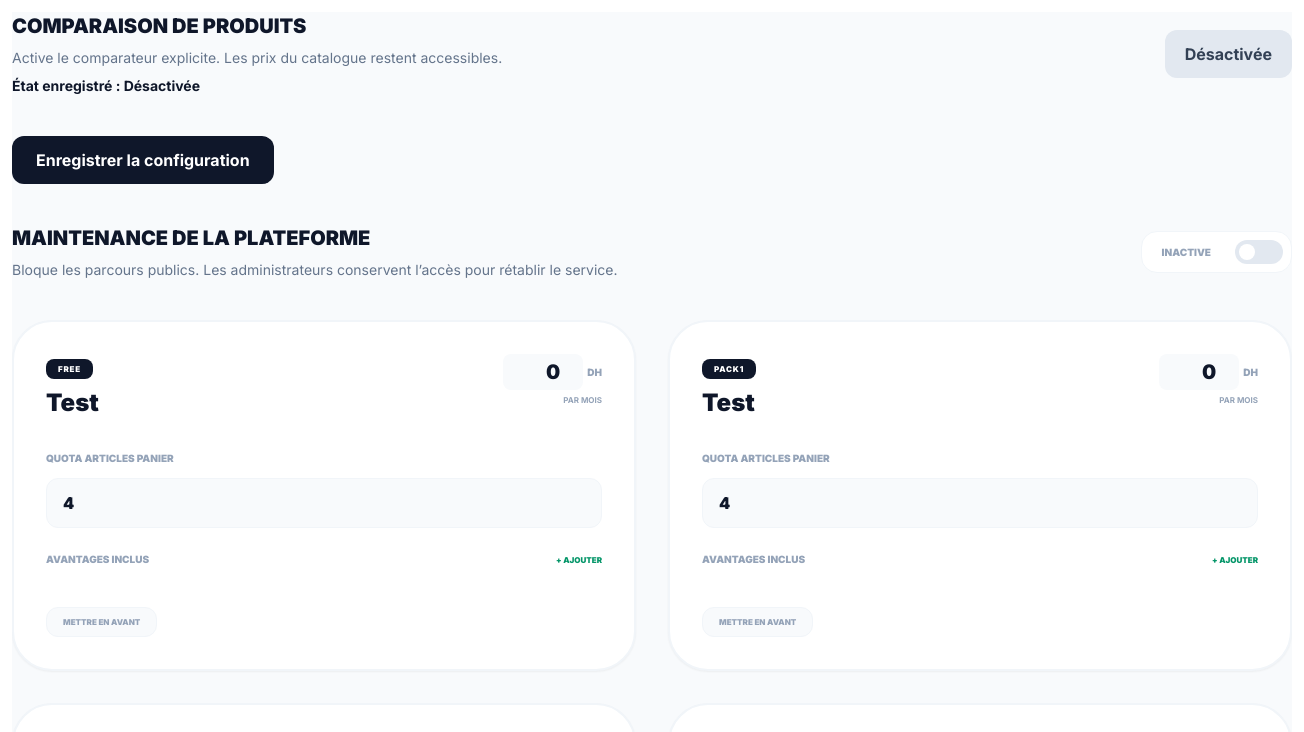
Test case: Comparison controls › does not claim that failed admin persistence succeeded
This screenshot has width=1304, height=732.
What coordinates should you click on to do the following:
click the switch
I would click on:
 (1228, 54)
Its box is [1165,30,1292,78].
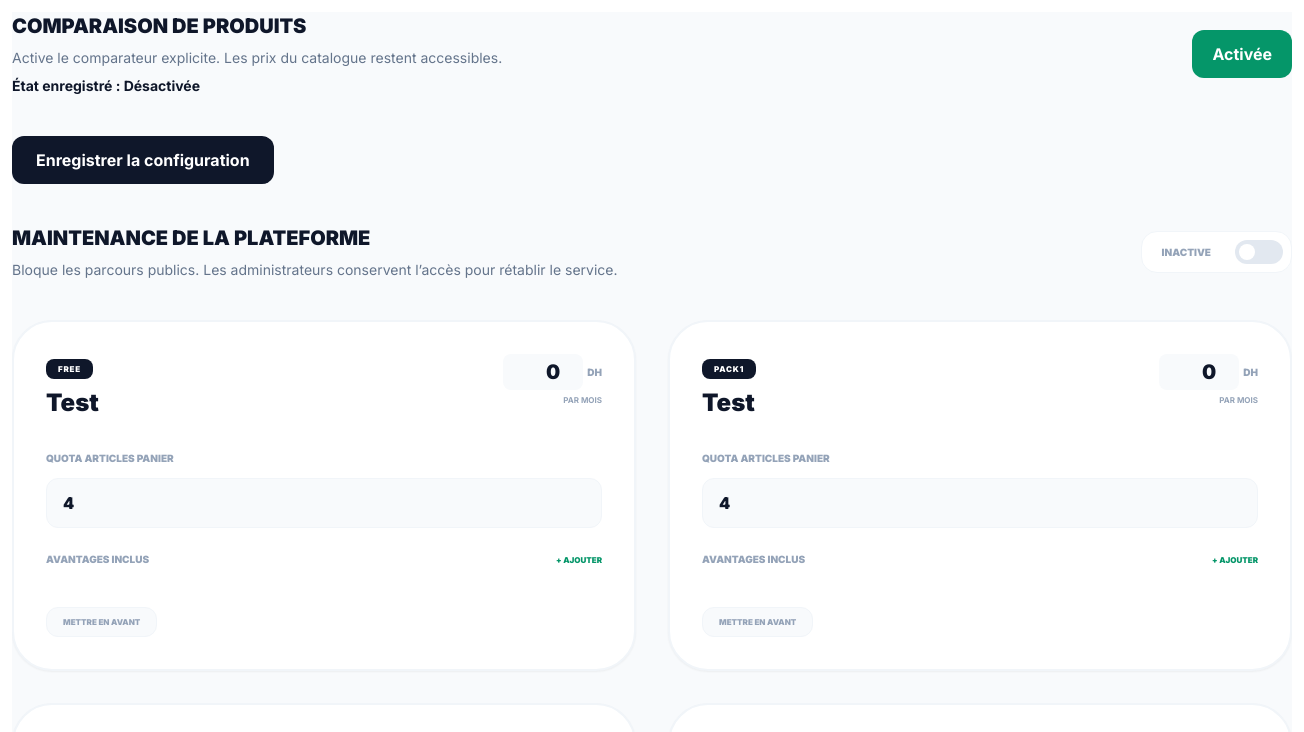
What coordinates should you click on to do the following:
click the button "Enregistrer la configuration"
I would click on:
 (143, 160)
Its box is [12,136,274,184].
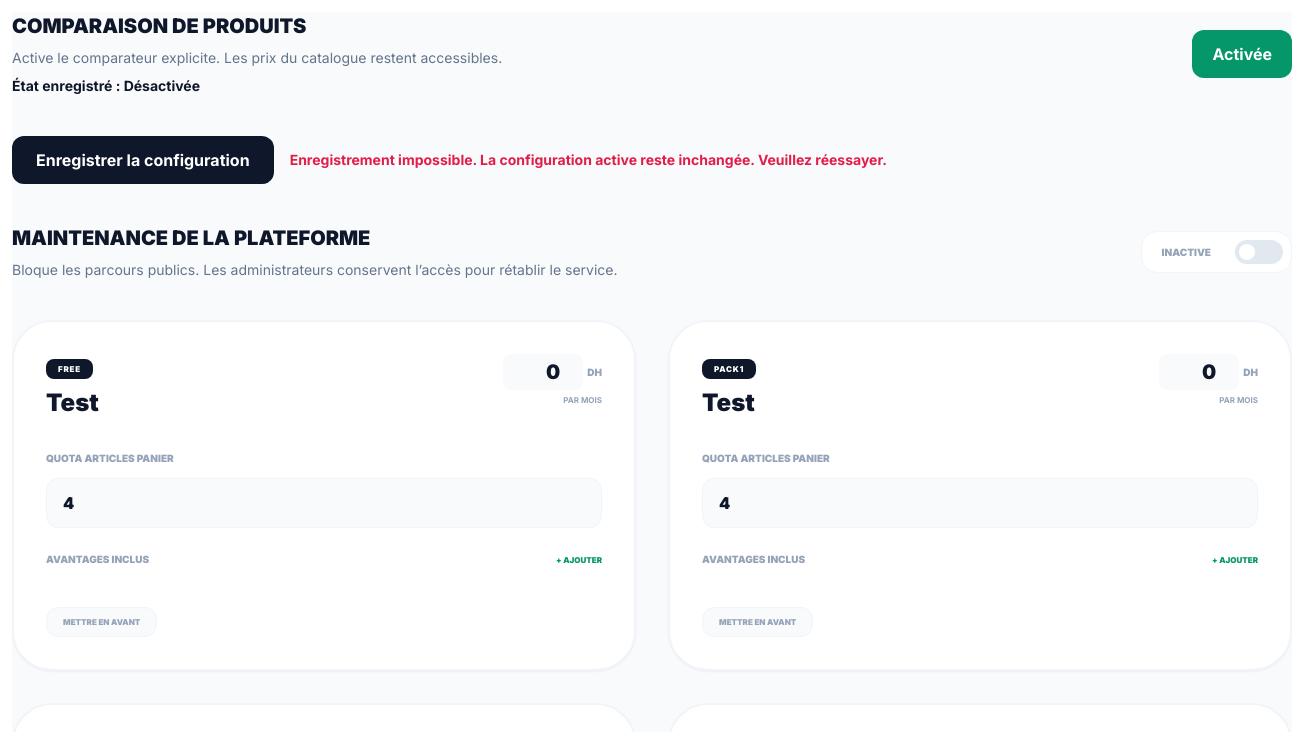
Expected: the text "État enregistré : Désactivée" is shown, [12,77,200,94]
Result: the message shows "Enregistrement impossible" at [290,151,887,168]
